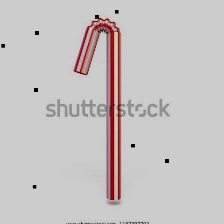drinking_straw: (67, 11, 131, 209)
